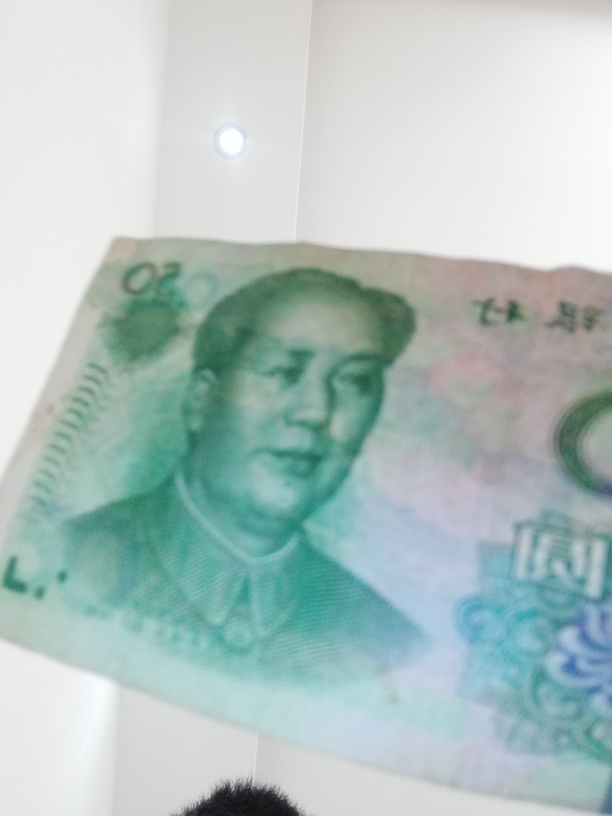rmb: (18, 242, 612, 800)
